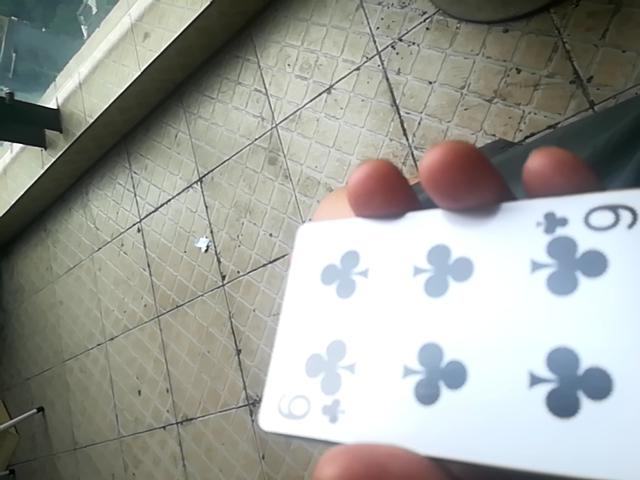mh 6: (274, 196, 640, 479)
